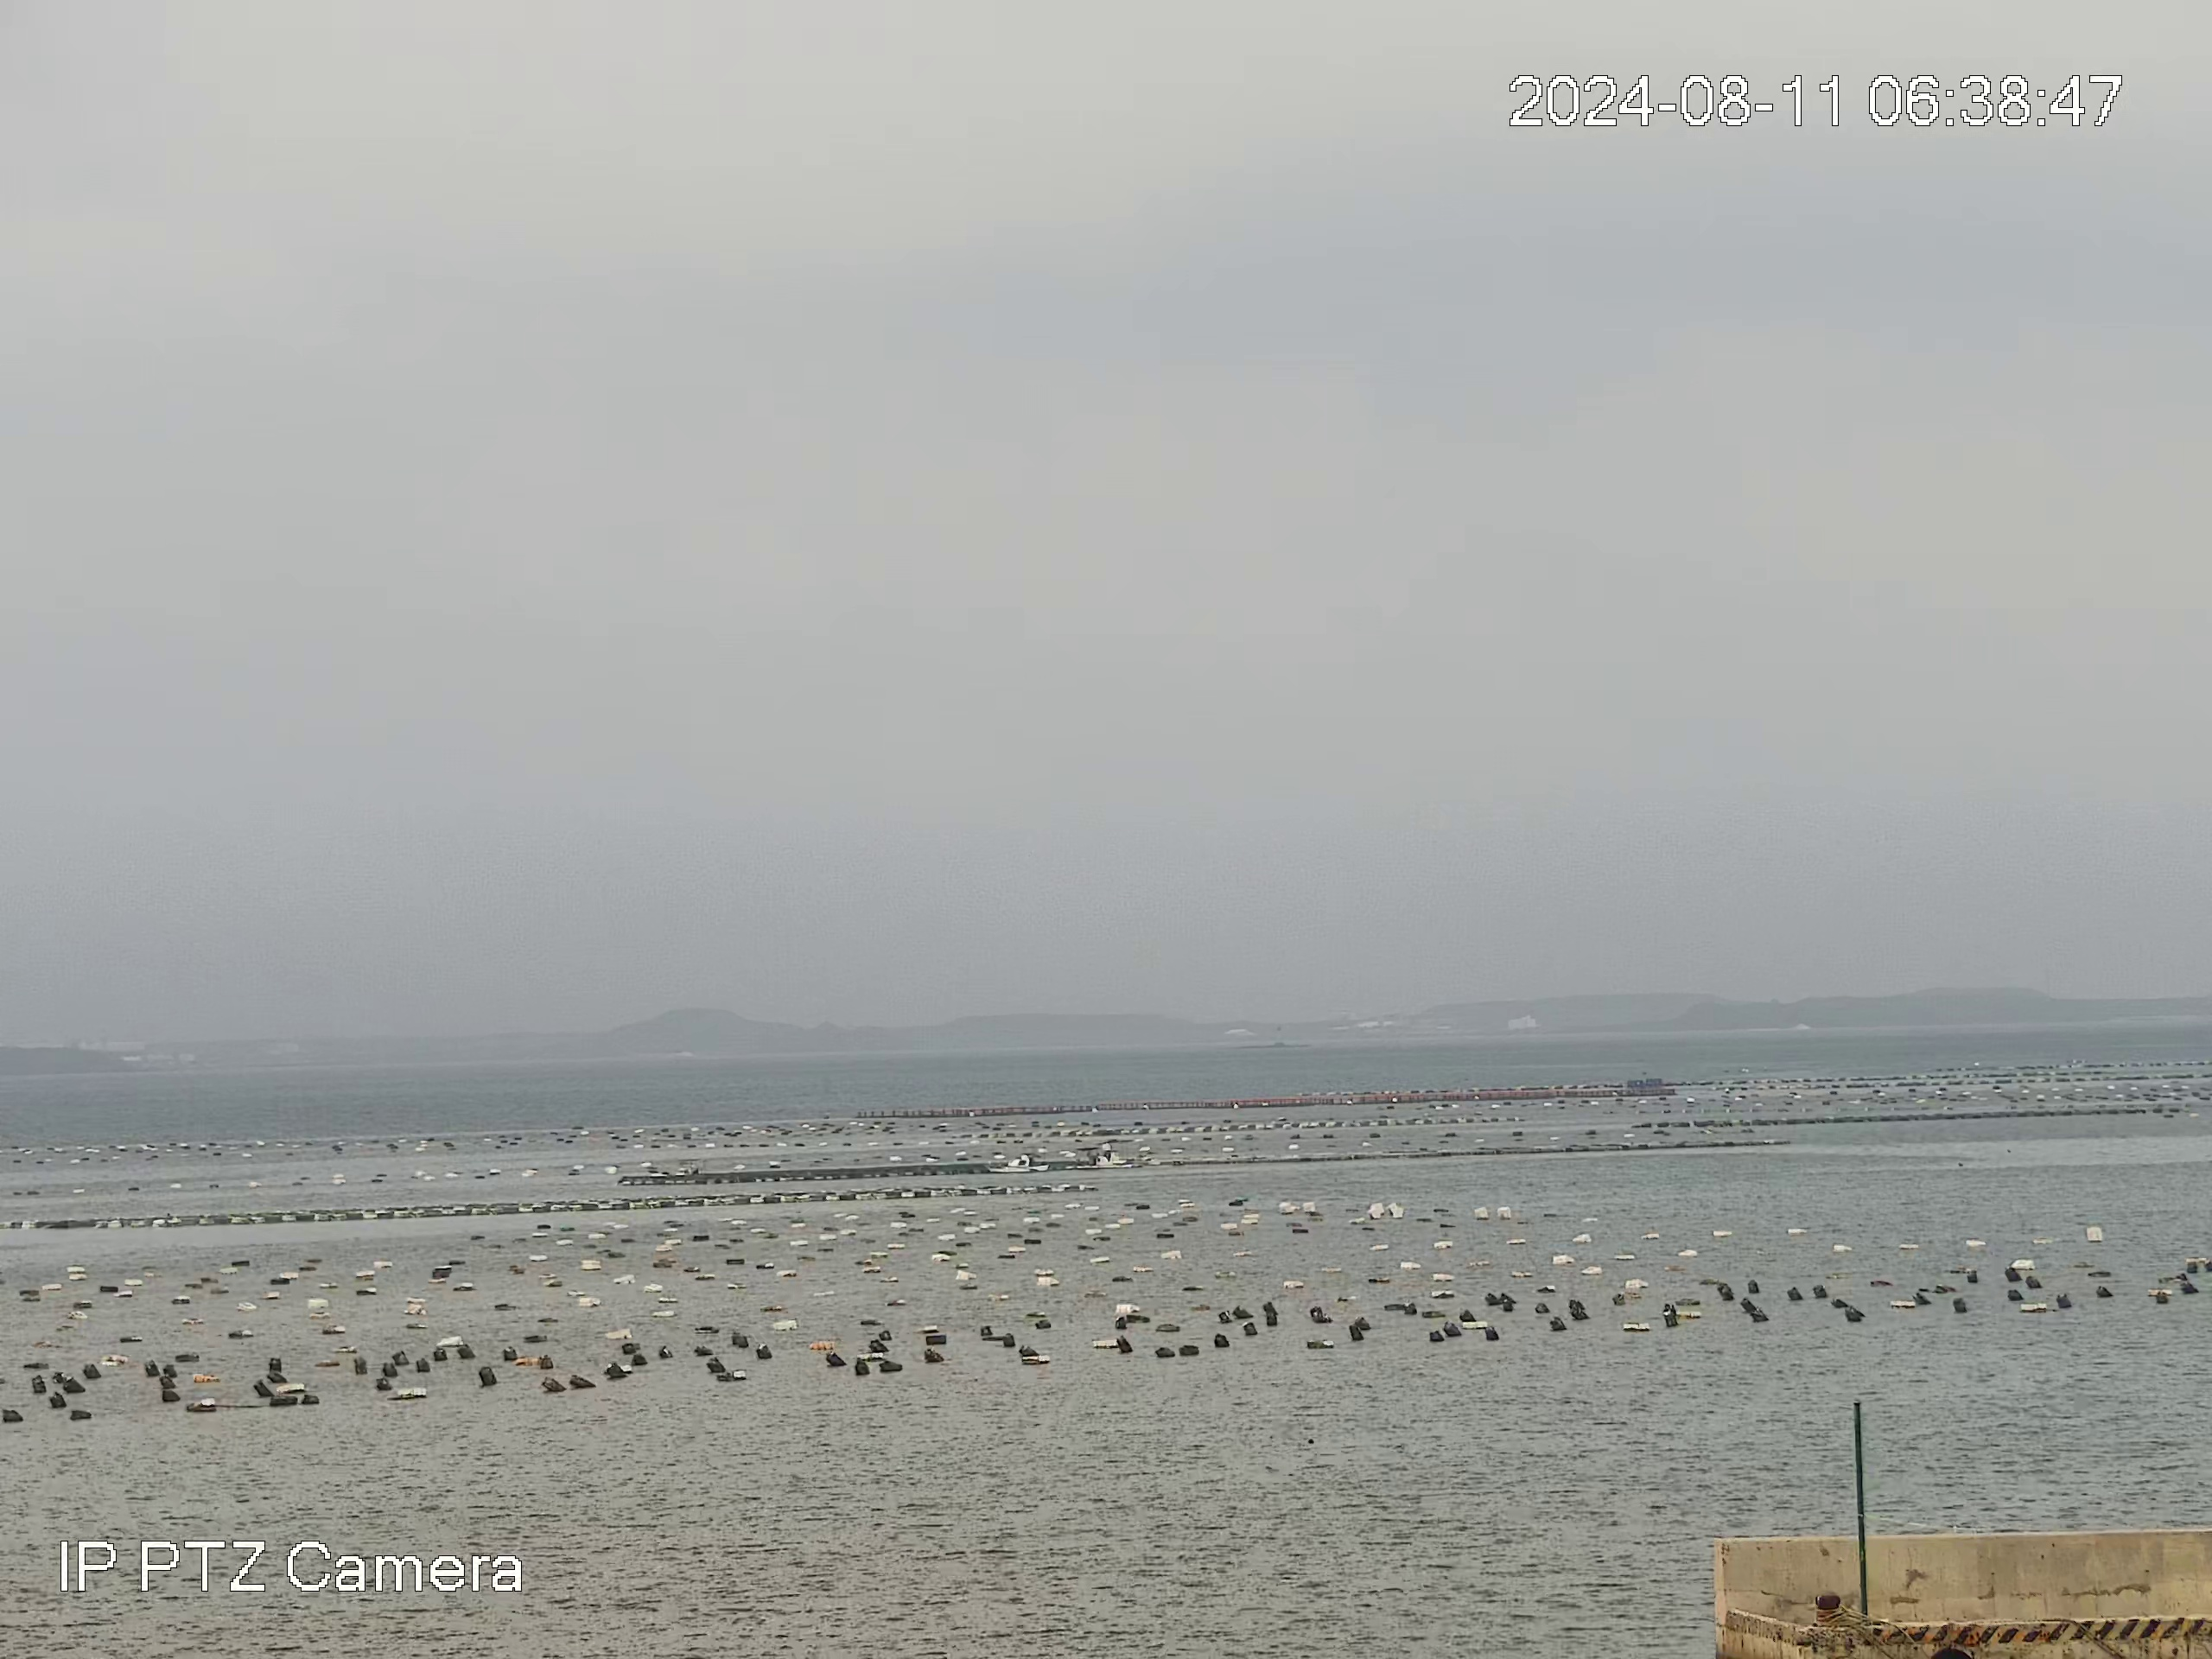boat: (1061, 1145, 1132, 1171), (984, 1154, 1050, 1175)
